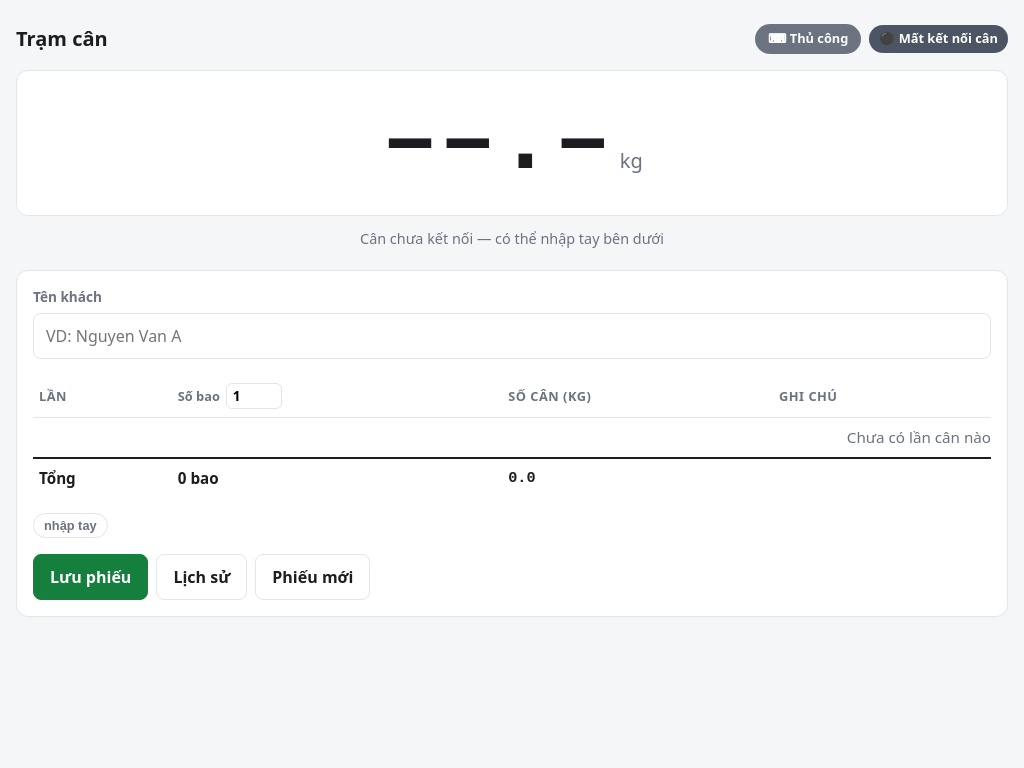
Test case: WeighScreen › báo chưa đồng bộ BE khi đẩy lần cân thất bại
The width and height of the screenshot is (1024, 768).
Click the button "nhập tay": (70, 526) [33, 513, 108, 538]
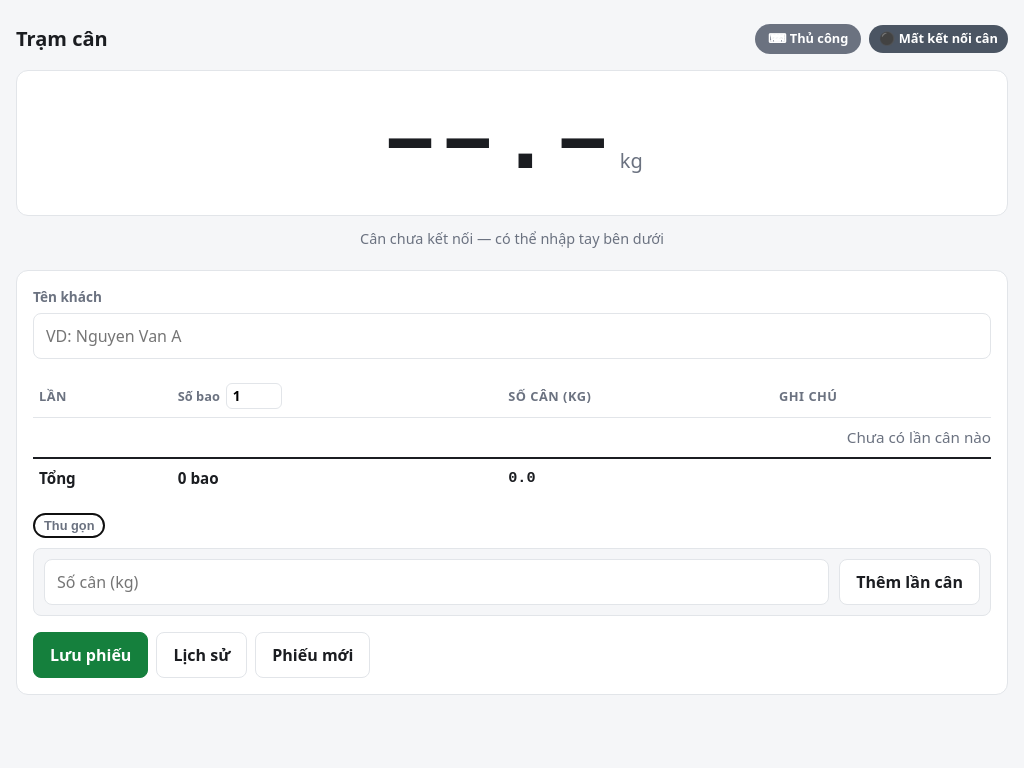
In the number field named "Số cân thủ công (kg)": (437, 582) [44, 559, 829, 605], type "85.5"
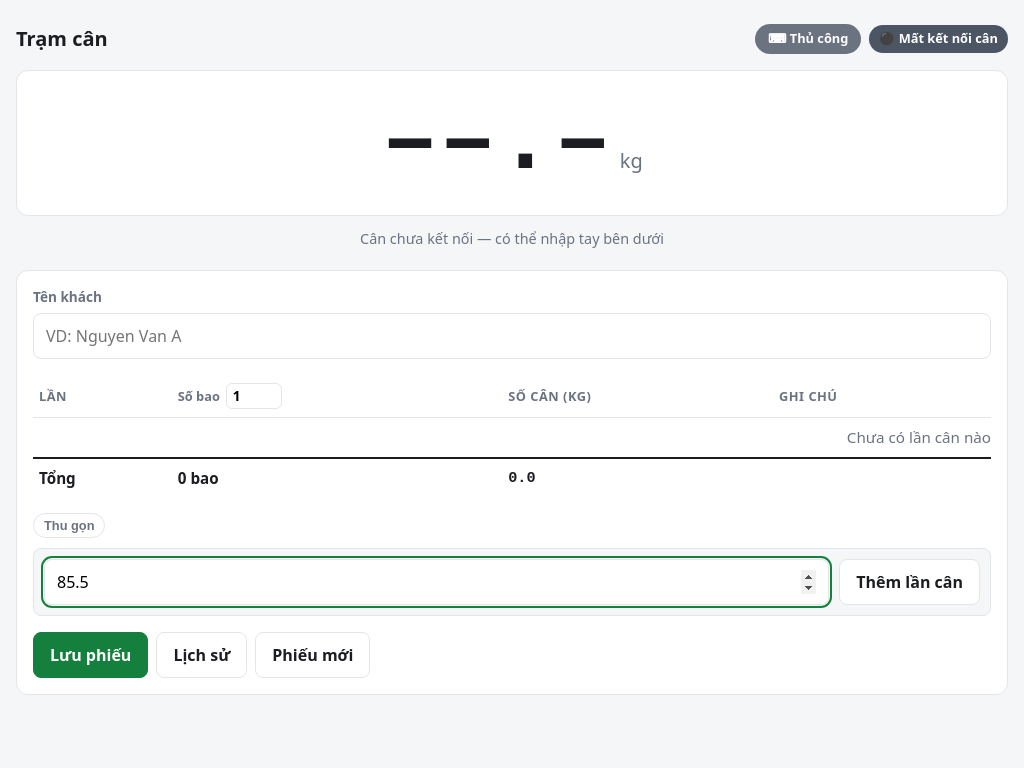
Click the button "Thêm lần cân": (910, 582) [839, 559, 980, 605]
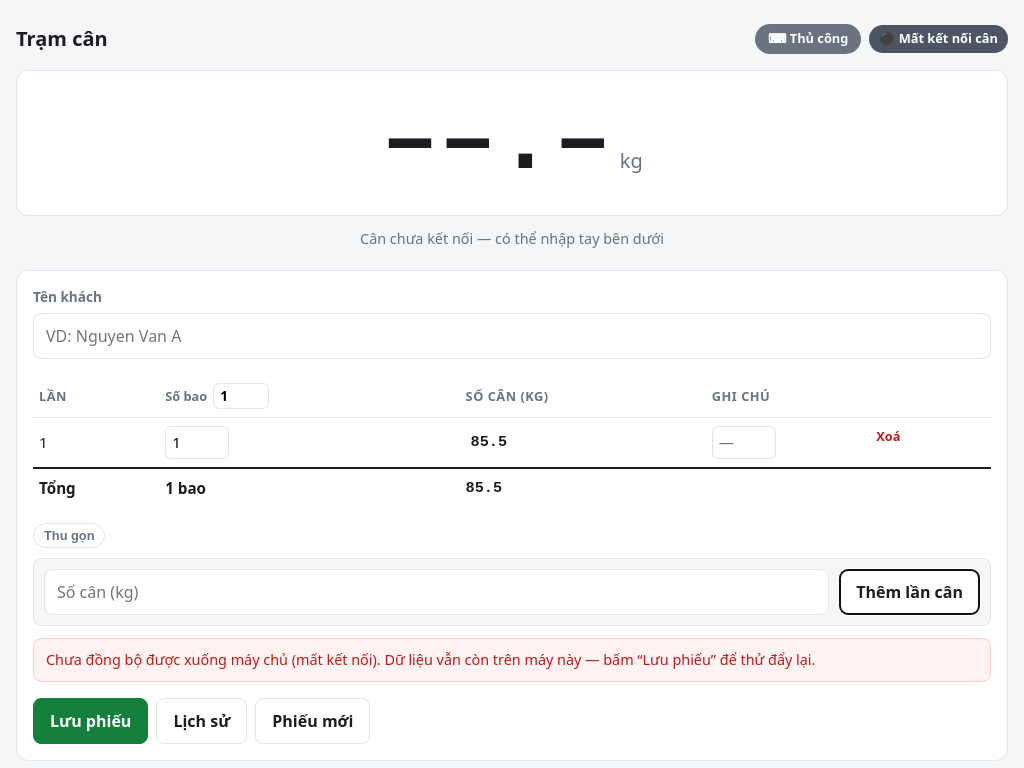
Now the text "Chưa đồng bộ được xuống máy chủ" is shown, box [46, 650, 815, 669]
